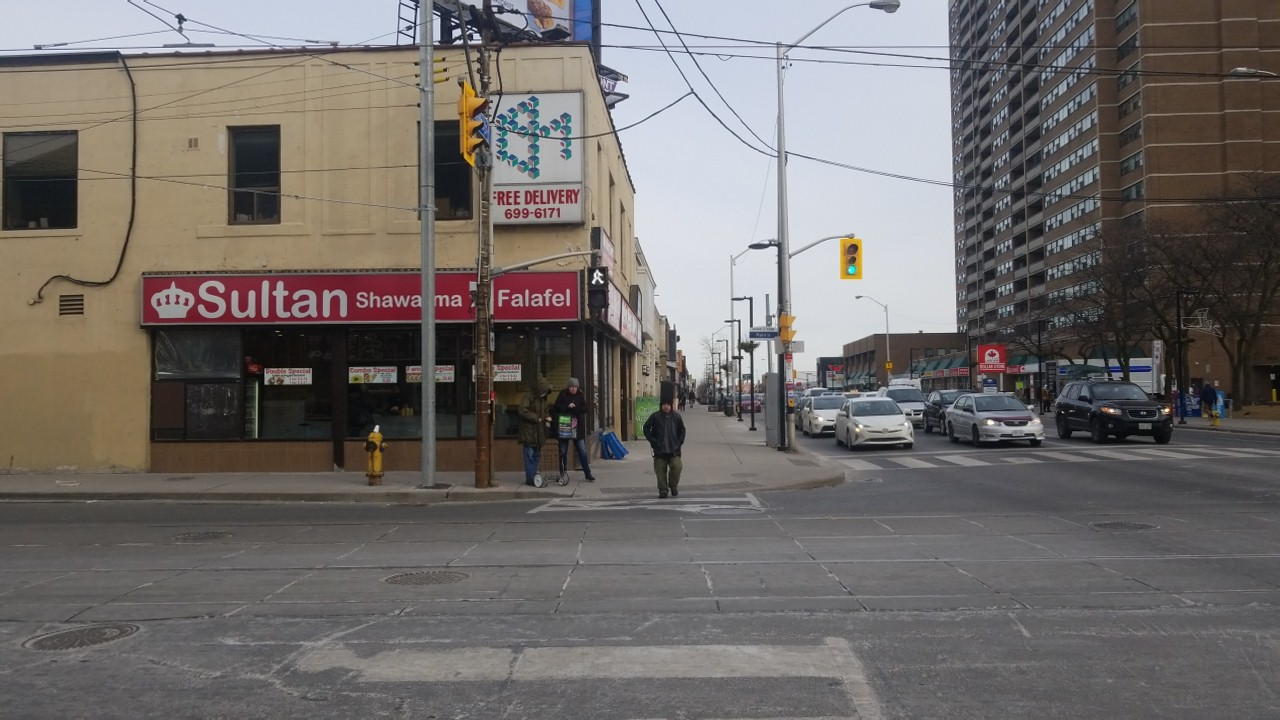light: (583, 261, 610, 315)
